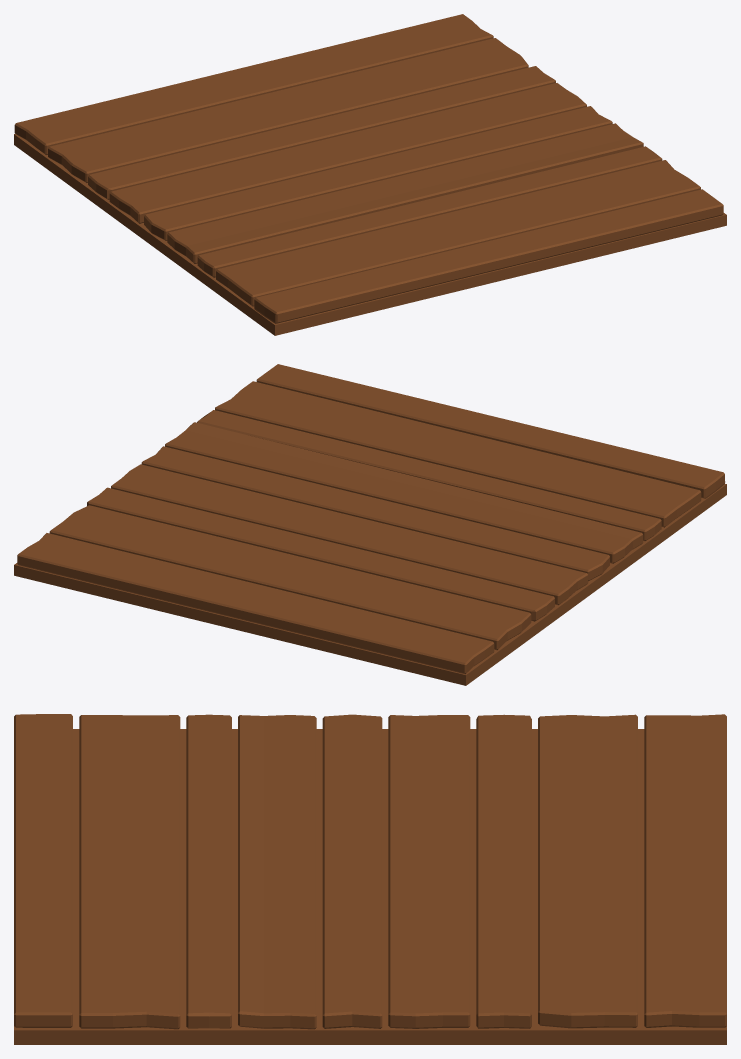
File: ww_floor_a.glb
3 views of the same model, one above another, from view 1: azimuth 30°, elevation 25°; view 2: azimuth 150°, elevation 25°; view 3: azimuth 270°, elevation 25° (orthographic). The views are drawn at different scales.
Parts seen in each view (by area): view 1: Floor_A; view 2: Floor_A; view 3: Floor_A.
Boxes of the visible parts, box(x1,y1,x2,y2) form: Floor_A: box(14, 14, 726, 335); Floor_A: box(14, 364, 726, 685); Floor_A: box(14, 714, 726, 1044).
Size of the model in its own units: 4.93 by 0.246 by 4.93.
